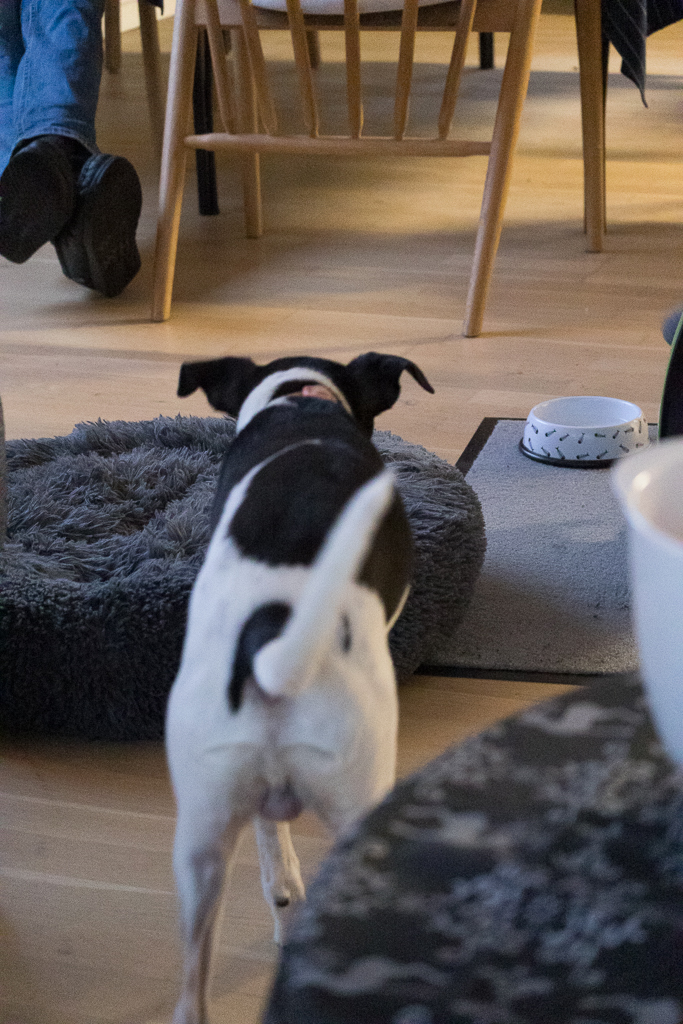Dog: (152, 331, 454, 1024)
Humanoid: (0, 0, 156, 303)
